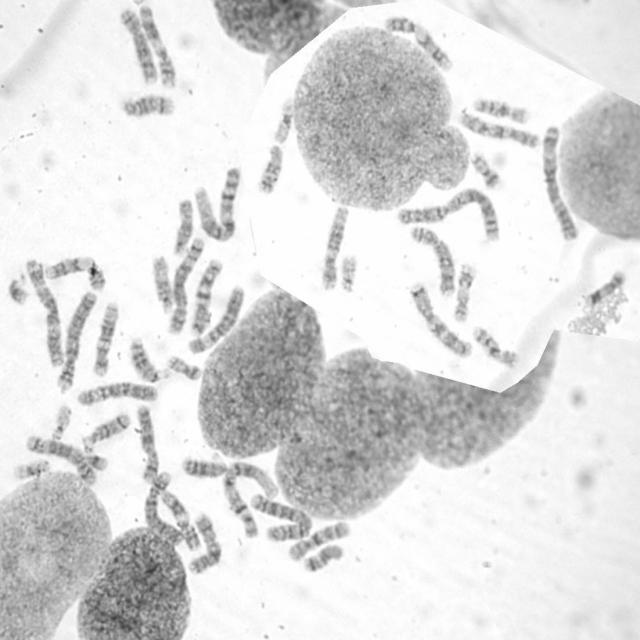A1: (220, 458, 280, 540), (194, 165, 244, 244)
A2: (394, 188, 504, 245), (248, 492, 314, 542)
A3: (540, 124, 584, 242), (23, 256, 66, 368)
B4: (56, 288, 100, 396), (142, 469, 186, 548)
B5: (166, 236, 206, 336), (24, 433, 99, 486)
C10: (461, 109, 541, 151), (286, 520, 353, 564)
C11: (137, 4, 177, 88), (158, 489, 202, 552)
C12: (321, 206, 352, 292), (91, 302, 121, 376)
C6: (186, 284, 246, 355), (72, 382, 161, 408)
C7: (406, 281, 474, 359), (190, 257, 225, 336)
C8: (410, 225, 456, 296), (120, 8, 158, 85)
C9: (382, 13, 456, 71), (44, 255, 108, 293)
D13: (128, 334, 172, 384), (182, 450, 227, 481)
D14: (82, 412, 132, 448), (119, 93, 179, 119)
D15: (150, 253, 174, 315), (172, 197, 196, 257)
E16: (472, 324, 519, 369), (472, 96, 532, 126)
E17: (583, 268, 627, 308), (452, 261, 480, 322)
E18: (254, 144, 286, 197), (301, 544, 345, 574)
F19: (9, 456, 53, 482), (272, 98, 296, 145)
F20: (471, 148, 502, 192), (164, 353, 201, 382)
G21: (7, 270, 32, 309), (82, 444, 110, 473)
G22: (50, 404, 74, 442), (338, 254, 359, 294)
X: (188, 509, 222, 575), (136, 403, 160, 485)
